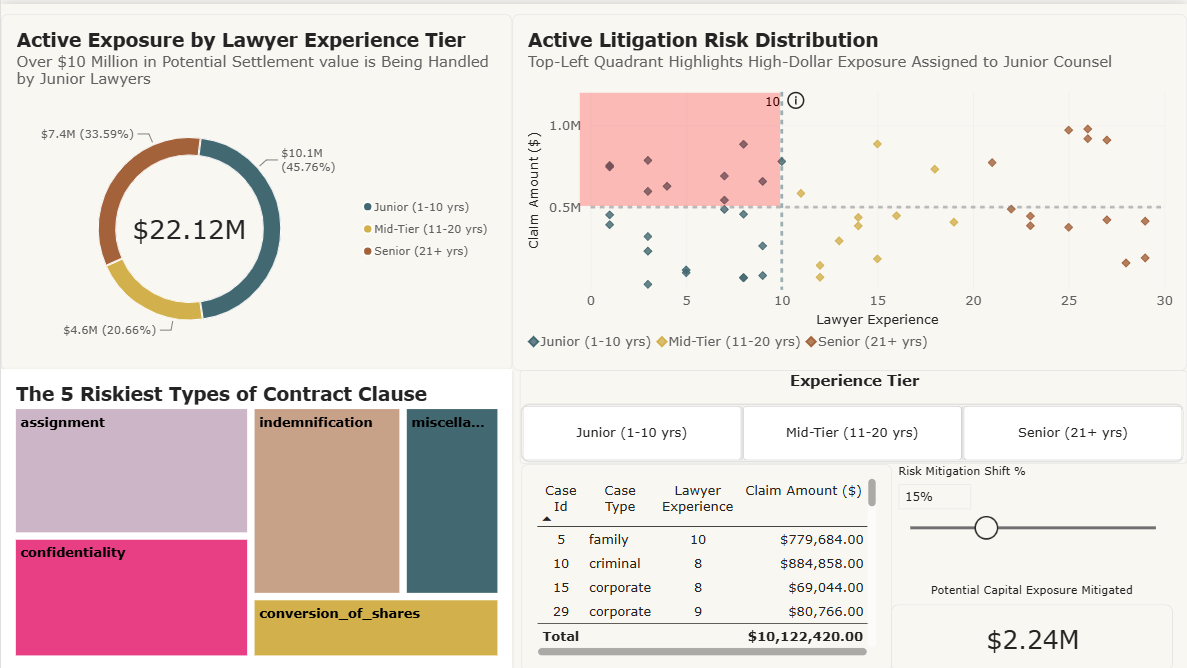

The dashboard page shown, as its layout file describes it:
{"tool":"powerbi","page":{"name":"Page 1","canvas":[1280,720],"ordinal":0},"visuals":[{"type":"donutChart","title":"Active Exposure by Lawyer Experience Tier","fields":{"Category":["dim_lawyer_groups.experience_tier"],"Y":["Sum(fact_litigation_cases.claim_amount)"]},"box":[0,10.2,550.9,385],"z":0},{"type":"treemap","title":"The 5 Riskiest Types of Contract Clause","fields":{"Group":["fact_contract_clauses.clause_type"],"Values":["Avg(fact_contract_clauses.risk_score)"]},"box":[0,393.9,551.2,325.2],"z":1000},{"type":"scatterChart","title":"Active Litigation Risk Distribution","fields":{"Category":["fact_litigation_cases.case_id"],"Series":["dim_lawyer_groups.experience_tier"],"X":["Avg(dim_lawyer_groups.lawyer_experience)"],"Y":["Sum(fact_litigation_cases.claim_amount)"]},"box":[550.9,10.2,729.2,385],"z":2000},{"type":"shape","box":[624,96,216,122],"z":3000},{"type":"advancedSlicerVisual","fields":{"Values":["dim_lawyer_groups.experience_tier"]},"box":[559.2,394.9,720.5,100.9],"z":4000},{"type":"tableEx","fields":{"Values":["fact_litigation_cases.case_id","fact_litigation_cases.case_type","fact_litigation_cases.lawyer_experience","Sum(fact_litigation_cases.claim_amount)","fact_litigation_cases.settled"]},"box":[560,496,464,224],"z":5000},{"type":"actionButton","box":[800,80,112,48],"z":6000},{"type":"slicer","title":"Simulated Case Re-assignment %","fields":{"Values":["Risk Mitigation Shift %.Risk Mitigation Shift %"]},"box":[1024,512,240,85],"z":7000},{"type":"cardVisual","title":"Potential Capital Exposure Mitigated","fields":{"Data":["Risk Mitigation Shift %.Potential Capital Saved"]},"box":[1024,624,240,96],"z":8000}]}

Visuals, with their boxes in screenshot pixels (x1, y1, x2, y2), scaled from the page's 1280x720 canvas onto the 1187x668 screenshot:
"Active Exposure by Lawyer Experience Tier" donutChart: (0,9,511,367)
"The 5 Riskiest Types of Contract Clause" treemap: (0,365,511,667)
"Active Litigation Risk Distribution" scatterChart: (511,9,1186,367)
shape: (579,89,779,202)
advancedSlicerVisual - dim_lawyer_groups.experience_tier: (519,366,1186,460)
tableEx - fact_litigation_cases.case_id x fact_litigation_cases.case_type: (519,460,950,667)
actionButton: (742,74,846,119)
"Simulated Case Re-assignment %" slicer: (950,475,1172,554)
"Potential Capital Exposure Mitigated" cardVisual: (950,579,1172,667)
